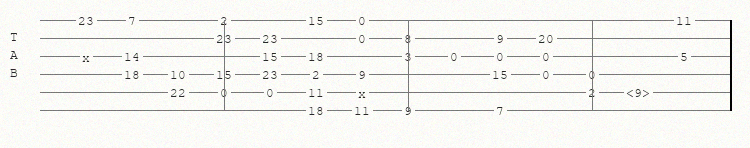0: (220, 86, 232, 98), (266, 86, 278, 98), (358, 14, 370, 26), (358, 32, 370, 44), (450, 50, 462, 62), (496, 50, 508, 62), (542, 68, 554, 80), (542, 50, 554, 62), (588, 68, 600, 80)
10: (170, 68, 190, 80)
11: (308, 86, 328, 98), (354, 104, 374, 116), (676, 14, 696, 26)
14: (124, 50, 144, 62)
15: (216, 68, 236, 80), (262, 50, 282, 62), (308, 14, 328, 26), (492, 68, 512, 80)
18: (124, 68, 144, 80), (308, 50, 328, 62), (308, 104, 328, 116)
2: (220, 14, 232, 26), (312, 68, 324, 80), (588, 86, 600, 98)
20: (538, 32, 558, 44)
22: (170, 86, 190, 98)
23: (78, 14, 98, 26), (216, 32, 236, 44), (262, 32, 282, 44), (262, 68, 282, 80)
3: (404, 50, 416, 62)
5: (680, 50, 692, 62)
7: (128, 14, 140, 26), (496, 104, 508, 116)
8: (404, 32, 416, 44)
9: (358, 68, 370, 80), (404, 104, 416, 116), (496, 32, 508, 44)
harmonic: (626, 86, 654, 99)
x: (82, 51, 94, 61), (358, 87, 370, 97)
